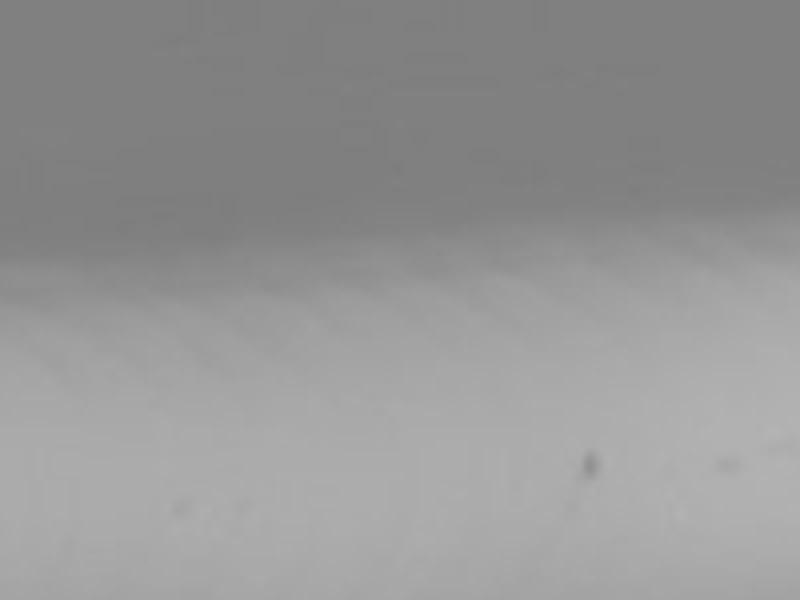defect: (713, 452, 748, 474), (581, 446, 602, 482), (171, 494, 192, 515)
